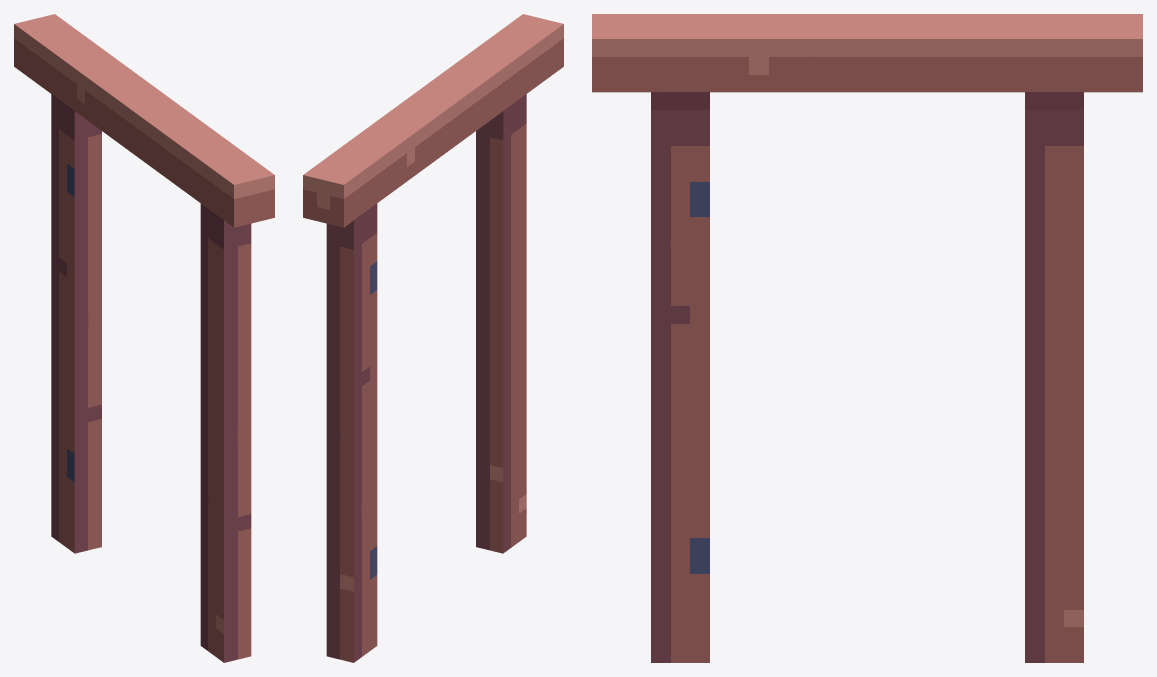
The model's file is wooden_door_frameao.fezao.glb.
The picture shows the model from 3 angles, left to right: view 1: azimuth 30°, elevation 25°; view 2: azimuth 150°, elevation 25°; view 3: azimuth 270°, elevation 25°; orthographic projection. The views are drawn at different scales.
Visible parts, largest first — view 1: WOODEN_DOOR_FRAMEAO; view 2: WOODEN_DOOR_FRAMEAO; view 3: WOODEN_DOOR_FRAMEAO.
Part boxes in pixels (bbox=[...]): WOODEN_DOOR_FRAMEAO: bbox=[14, 14, 274, 662]; WOODEN_DOOR_FRAMEAO: bbox=[303, 14, 563, 662]; WOODEN_DOOR_FRAMEAO: bbox=[592, 14, 1142, 662].
Bounding box in the file's own units: 0.1875 × 2.19 × 1.75.
Materials: 1 (1 with a texture image).
